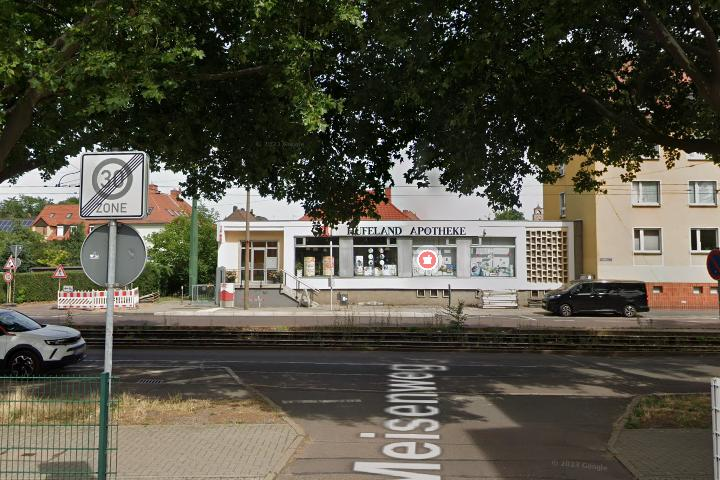google_maps: (418, 251, 437, 269)
traffic_sign: (91, 157, 134, 199), (706, 249, 720, 281), (51, 264, 68, 279), (3, 256, 17, 270), (3, 272, 14, 283)
vehicle: (541, 276, 651, 319)
